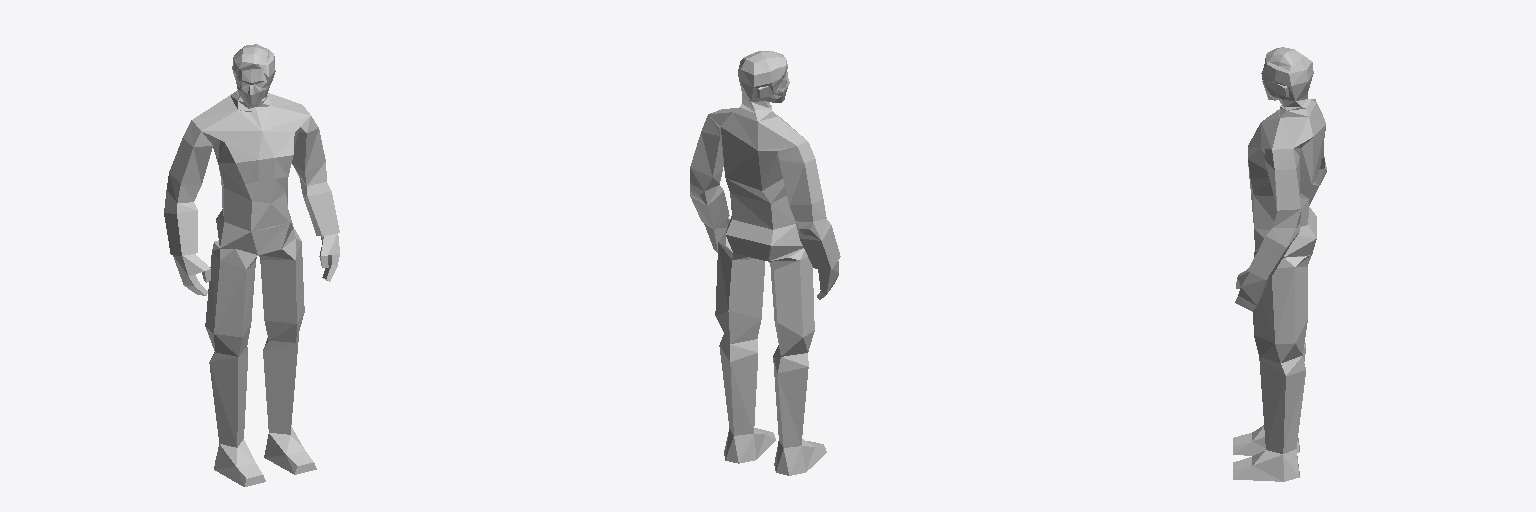
File: Manuel105.obj
3 views of the same model, side by side, from view 1: azimuth 30°, elevation 25°; view 2: azimuth 150°, elevation 25°; view 3: azimuth 270°, elevation 25° (orthographic).
Parts seen in each view (by area): view 1: leon; view 2: leon; view 3: leon.
Boxes of the visible parts, box(x1,y1,x2,y2) form: leon: box(164, 44, 339, 486); leon: box(690, 51, 840, 475); leon: box(1233, 47, 1326, 481).
Bounding box in the file's own units: 4.63 × 12.19 × 2.55.